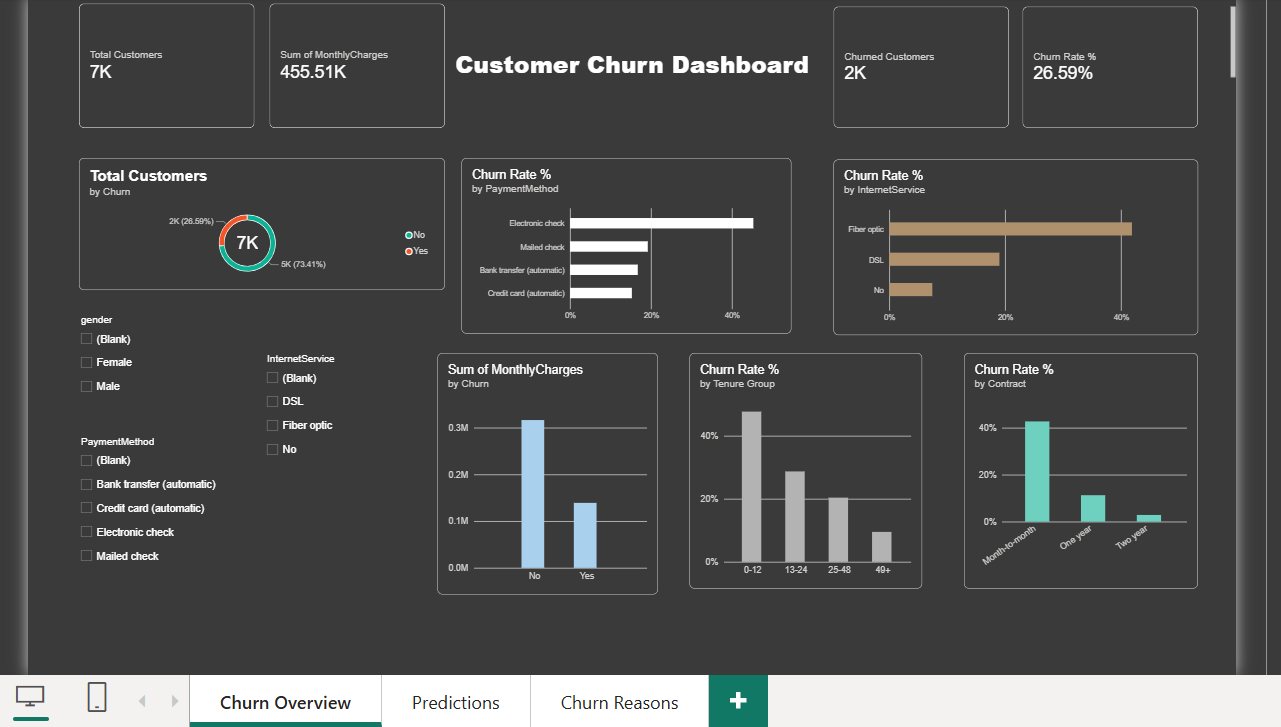

This screenshot's page, from the dashboard's own definition file:
{"tool":"powerbi","page":{"name":"Churn Overview","canvas":[1920,1080],"ordinal":0},"visuals":[{"type":"cardVisual","fields":{"Data":["Telco.Total Customers"]},"box":[81.1,11.9,279.2,198],"z":0},{"type":"cardVisual","fields":{"Data":["Telco.Churned Customers"]},"box":[1281.2,16.7,279.2,193.3],"z":1000},{"type":"cardVisual","fields":{"Data":["Telco.Churn Rate %"]},"box":[1581.9,16.7,279.2,193.3],"z":2000},{"type":"cardVisual","fields":{"Data":["Sum(Telco.MonthlyCharges)"]},"box":[384.1,11.9,279.2,198],"z":3000},{"type":"lineClusteredColumnComboChart","fields":{"Category":["Telco.Contract"],"Y":["Telco.Churn Rate %"]},"box":[1488.8,567.8,372.2,374.6],"z":4000},{"type":"lineClusteredColumnComboChart","fields":{"Category":["Telco.Tenure Group"],"Y":["Telco.Churn Rate %"]},"box":[1052.2,567.8,369.8,374.6],"z":5000},{"type":"slicer","fields":{"Values":["Telco.gender"]},"box":[76.3,505.8,145.5,193.3],"z":6000},{"type":"slicer","fields":{"Values":["Telco.InternetService"]},"box":[372.2,567.8,280,210],"z":7000},{"type":"slicer","fields":{"Values":["Telco.PaymentMethod"]},"box":[76.3,699.1,279.2,221.9],"z":8000},{"type":"clusteredBarChart","fields":{"Category":["Telco.InternetService"],"Y":["Telco.Churn Rate %"]},"box":[1281.2,260.1,579.8,279.2],"z":9000},{"type":"clusteredBarChart","fields":{"Category":["Telco.PaymentMethod"],"Y":["Telco.Churn Rate %"]},"box":[689.5,257.7,524.9,279.2],"z":10000},{"type":"donutChart","fields":{"Category":["Telco.Churn"],"Y":["Telco.Total Customers"]},"box":[81.1,257.7,582.2,210],"z":11000},{"type":"clusteredColumnChart","fields":{"Category":["Telco.Churn"],"Y":["Sum(Telco.MonthlyCharges)"]},"box":[651.4,567.8,350.7,384.1],"z":12000},{"type":"textbox","box":[9.5,16.7,1911.1,114.5],"z":13000}]}

Visuals, with their boxes on the page's 1920x1080 design canvas (x1, y1, x2, y2). These are canvas units, not pixel positions in the 1281x727 screenshot, which may show the page scaled, cropped or inside an application window:
cardVisual - Telco.Total Customers: detection(81, 12, 360, 210)
cardVisual - Telco.Churned Customers: detection(1281, 17, 1560, 210)
cardVisual - Telco.Churn Rate %: detection(1582, 17, 1861, 210)
cardVisual - Sum(Telco.MonthlyCharges): detection(384, 12, 663, 210)
lineClusteredColumnComboChart - Telco.Contract x Telco.Churn Rate %: detection(1489, 568, 1861, 942)
lineClusteredColumnComboChart - Telco.Tenure Group x Telco.Churn Rate %: detection(1052, 568, 1422, 942)
slicer - Telco.gender: detection(76, 506, 222, 699)
slicer - Telco.InternetService: detection(372, 568, 652, 778)
slicer - Telco.PaymentMethod: detection(76, 699, 356, 921)
clusteredBarChart - Telco.InternetService x Telco.Churn Rate %: detection(1281, 260, 1861, 539)
clusteredBarChart - Telco.PaymentMethod x Telco.Churn Rate %: detection(690, 258, 1214, 537)
donutChart - Telco.Churn x Telco.Total Customers: detection(81, 258, 663, 468)
clusteredColumnChart - Telco.Churn x Sum(Telco.MonthlyCharges): detection(651, 568, 1002, 952)
textbox: detection(10, 17, 1921, 131)
